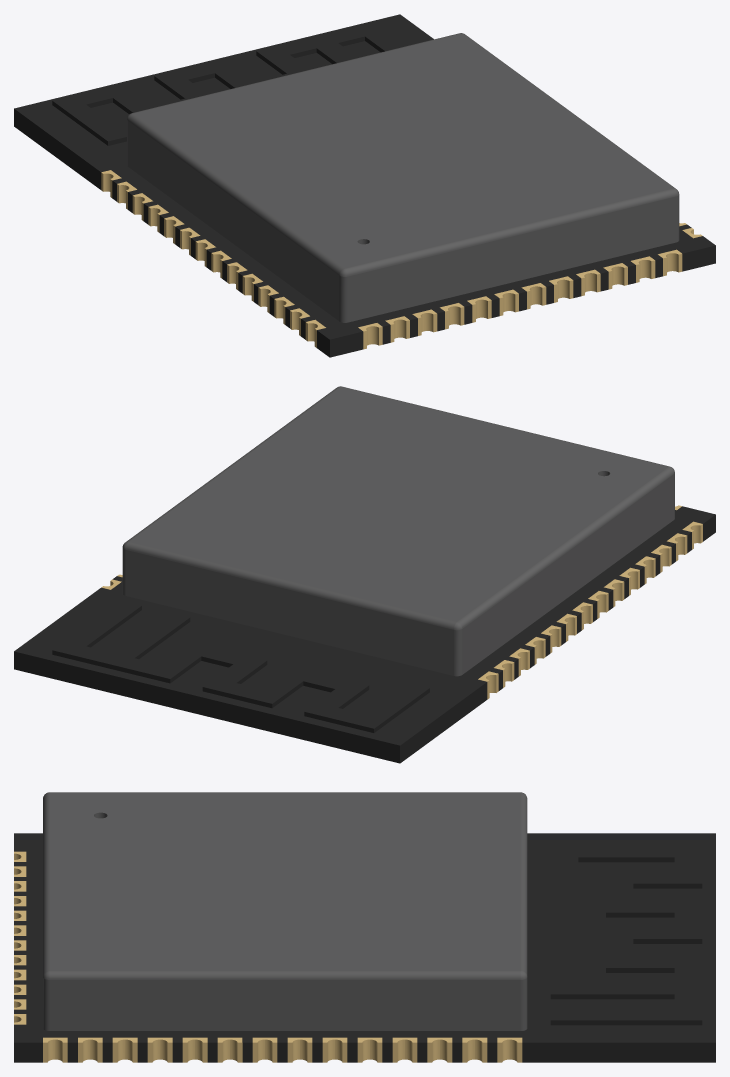
Rendered from kc-esp32-s3-wroom-1.glb.
3 renders of one model, top to bottom at view 1: azimuth 30°, elevation 25°; view 2: azimuth 150°, elevation 25°; view 3: azimuth 270°, elevation 25°, orthographic. The views are drawn at different scales.
Parts seen in each view (by area): view 1: 0.08333333333333333_0.08333333333333333_0.08333333333333333_, 0_0_0_0, 0.75_0.5_0.25_0.9; view 2: 0.08333333333333333_0.08333333333333333_0.08333333333333333_, 0_0_0_0, 0.75_0.5_0.25_0.9; view 3: 0.08333333333333333_0.08333333333333333_0.08333333333333333_, 0_0_0_0, 0.75_0.5_0.25_0.9.
Boxes of the visible parts, box(x1,y1,x2,y2) form: 0.08333333333333333_0.08333333333333333_0.08333333333333333_: box(127, 33, 679, 322); 0_0_0_0: box(14, 14, 715, 357); 0.75_0.5_0.25_0.9: box(101, 170, 702, 349); 0.08333333333333333_0.08333333333333333_0.08333333333333333_: box(122, 386, 674, 676); 0_0_0_0: box(14, 506, 715, 763); 0.75_0.5_0.25_0.9: box(101, 505, 702, 699); 0.08333333333333333_0.08333333333333333_0.08333333333333333_: box(43, 792, 527, 1030); 0_0_0_0: box(14, 833, 715, 1062); 0.75_0.5_0.25_0.9: box(14, 851, 522, 1062).
Size of the model in its own units: 1.8 by 0.3099 by 2.55.
